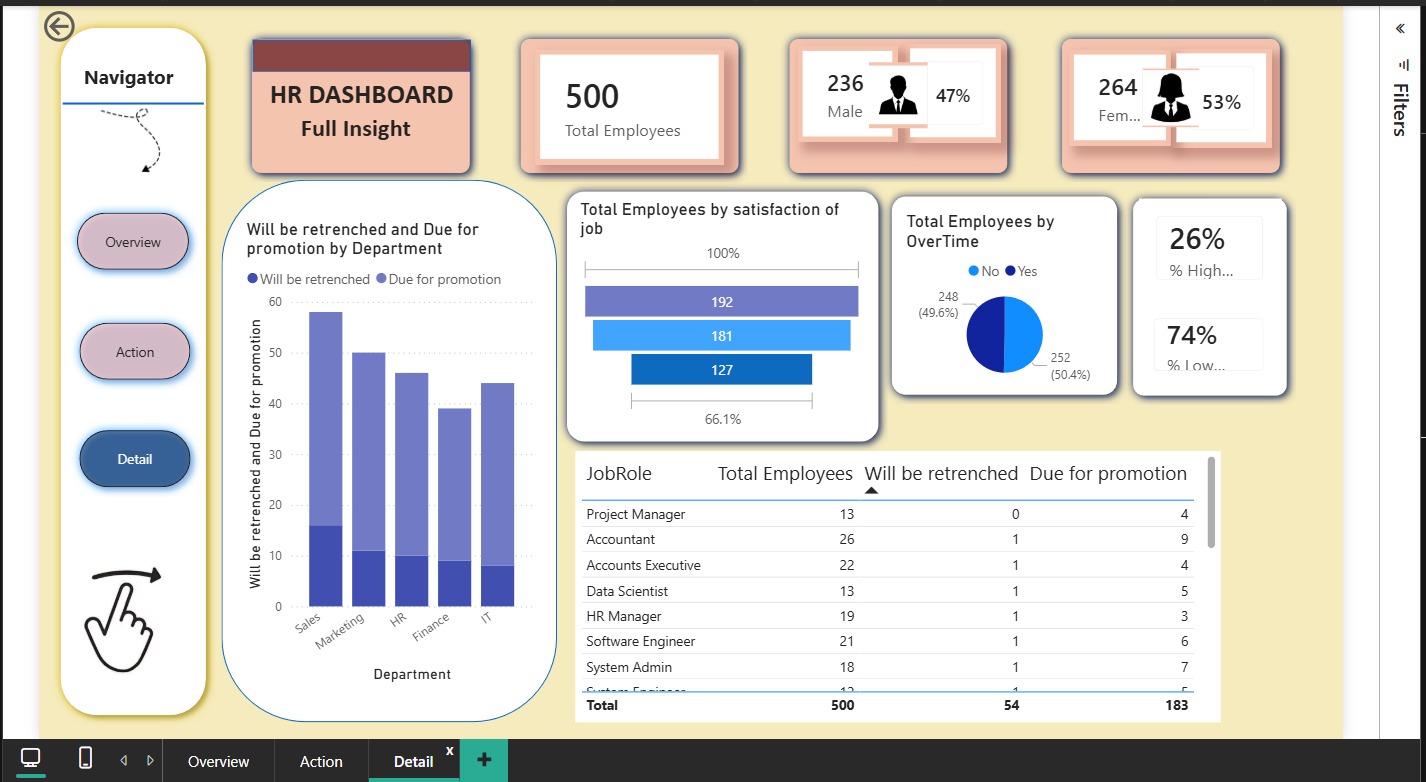

Layout of this report page (visuals, bound fields, positions):
{"tool":"powerbi","page":{"name":"Detail","canvas":[1280,720],"ordinal":2},"visuals":[{"type":"shape","box":[12.3,12.3,160.5,693],"z":0},{"type":"shape","box":[200.3,23.3,231.9,149.6],"z":1000},{"type":"shape","box":[994.9,23.3,231.9,149.6],"z":2000},{"type":"shape","box":[727.3,23.3,231.9,149.6],"z":3000},{"type":"shape","box":[463.8,23.3,231.9,149.6],"z":4000},{"type":"textbox","box":[209.9,64.5,214.1,46.7],"z":5000},{"type":"textbox","box":[236,98.8,150.9,46.7],"z":6000},{"type":"shape","box":[209.9,32.9,214.1,31.6],"z":7000},{"type":"cardVisual","title":"TOTAL EMPLOYEES","fields":{"Data":["All Measures.Total EMP"]},"box":[487.1,42.5,185.2,112.5],"z":8000},{"type":"cardVisual","fields":{"Data":["All Measures.Male"]},"box":[745.1,39.8,98.8,94.7],"z":9000},{"type":"cardVisual","fields":{"Data":["All Measures.% male"]},"box":[850.8,37,94.7,97.4],"z":10000},{"type":"cardVisual","fields":{"Data":["All Measures.Female"]},"box":[1011.3,42.5,100.2,94.7],"z":11000},{"type":"cardVisual","fields":{"Data":["All Measures.% Female"]},"box":[1111.5,41.2,98.8,97.4],"z":12000},{"type":"image","box":[1084.1,61.7,54.9,57.6],"z":13000},{"type":"image","box":[815.1,54.9,57.6,64.5],"z":14000},{"type":"actionButton","box":[0,0,100,40],"z":15000},{"type":"shape","box":[179.5,170.7,329.3,532.4],"z":16000},{"type":"columnChart","fields":{"Category":["HR Analytics Data.Department"],"Y":["All Measures.Will be retrenched","All Measures.Due for promotion"]},"box":[199,209.1,290.9,460.5],"z":17000},{"type":"shape","box":[509.1,172.9,323.8,263.5],"z":18000},{"type":"shape","box":[828.5,178.4,239,212.7],"z":19000},{"type":"shape","box":[1064.8,179.8,168.8,211],"z":20000},{"type":"funnel","fields":{"Category":["HR Analytics Data.satisfaction of job"],"Y":["All Measures.Total Employees"]},"box":[526.9,189.4,288.2,230.5],"z":21000},{"type":"pieChart","fields":{"Category":["HR Analytics Data.OverTime"],"Y":["All Measures.Total Employees"]},"box":[846.7,201.7,203.1,174.8],"z":22000},{"type":"tableEx","fields":{"Values":["HR Analytics Data.JobRole","All Measures.Total Employees","All Measures.Will be retrenched","All Measures.Due for promotion"]},"box":[526.9,436.4,634,266.2],"z":23000},{"type":"cardVisual","fields":{"Data":["All Measures.% High Rating"]},"box":[1079.9,189.4,140,97.4],"z":24000},{"type":"cardVisual","fields":{"Data":["All Measures.% Low Rating"]},"box":[1077.2,289.5,142.7,86.4],"z":25000},{"type":"pageNavigator","box":[28.8,193.5,129,74.1],"z":26000},{"type":"pageNavigator","box":[30.2,301.9,127.6,74.1],"z":27000},{"type":"pageNavigator","box":[30.2,407.5,127.6,74.1],"z":28000},{"type":"textbox","box":[28.8,52.1,119.4,71.4],"z":29000},{"type":"shape","box":[23.3,49.4,138.6,93.3],"z":30000},{"type":"image","box":[30.2,65.9,118,131.7],"z":31000},{"type":"image","box":[24.7,540.7,135.8,118],"z":32000}]}

Visuals, with their boxes on the page's 1280x720 design canvas (x1, y1, x2, y2). These are canvas units, not pixel positions in the 1426x782 screenshot, which may show the page scaled, cropped or inside an application window:
shape: select_region(12, 12, 173, 705)
shape: select_region(200, 23, 432, 173)
shape: select_region(995, 23, 1227, 173)
shape: select_region(727, 23, 959, 173)
shape: select_region(464, 23, 696, 173)
textbox: select_region(210, 64, 424, 111)
textbox: select_region(236, 99, 387, 146)
shape: select_region(210, 33, 424, 64)
"TOTAL EMPLOYEES" cardVisual: select_region(487, 42, 672, 155)
cardVisual - All Measures.Male: select_region(745, 40, 844, 134)
cardVisual - All Measures.% male: select_region(851, 37, 946, 134)
cardVisual - All Measures.Female: select_region(1011, 42, 1112, 137)
cardVisual - All Measures.% Female: select_region(1112, 41, 1210, 139)
image: select_region(1084, 62, 1139, 119)
image: select_region(815, 55, 873, 119)
actionButton: select_region(0, 0, 100, 40)
shape: select_region(180, 171, 509, 703)
columnChart - HR Analytics Data.Department x All Measures.Will be retrenched: select_region(199, 209, 490, 670)
shape: select_region(509, 173, 833, 436)
shape: select_region(828, 178, 1068, 391)
shape: select_region(1065, 180, 1234, 391)
funnel - HR Analytics Data.satisfaction of job x All Measures.Total Employees: select_region(527, 189, 815, 420)
pieChart - HR Analytics Data.OverTime x All Measures.Total Employees: select_region(847, 202, 1050, 376)
tableEx - HR Analytics Data.JobRole x All Measures.Total Employees: select_region(527, 436, 1161, 703)
cardVisual - All Measures.% High Rating: select_region(1080, 189, 1220, 287)
cardVisual - All Measures.% Low Rating: select_region(1077, 290, 1220, 376)
pageNavigator: select_region(29, 194, 158, 268)
pageNavigator: select_region(30, 302, 158, 376)
pageNavigator: select_region(30, 408, 158, 482)
textbox: select_region(29, 52, 148, 124)
shape: select_region(23, 49, 162, 143)
image: select_region(30, 66, 148, 198)
image: select_region(25, 541, 160, 659)
